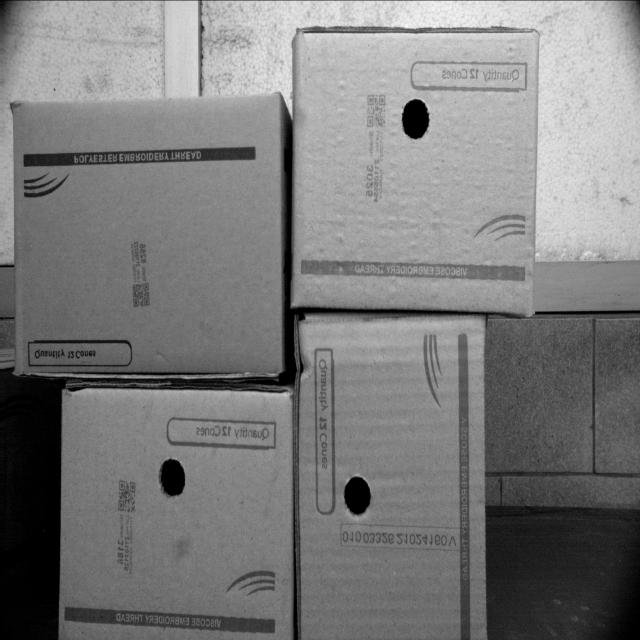cardboxes: (15, 100, 282, 373), (293, 27, 537, 310), (296, 323, 484, 639), (59, 392, 292, 639)
